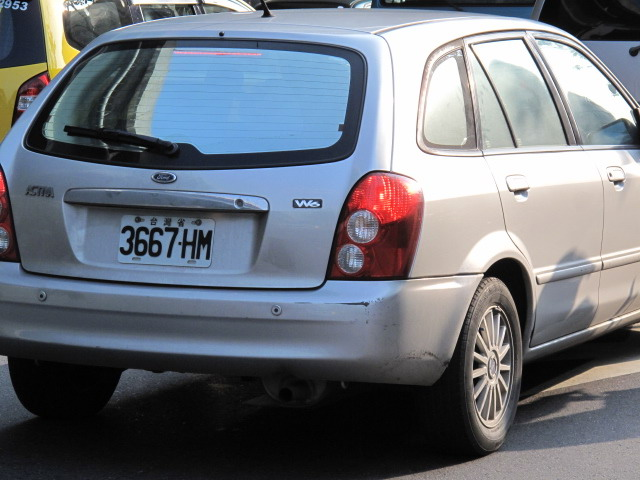plate: (115, 211, 213, 270)
